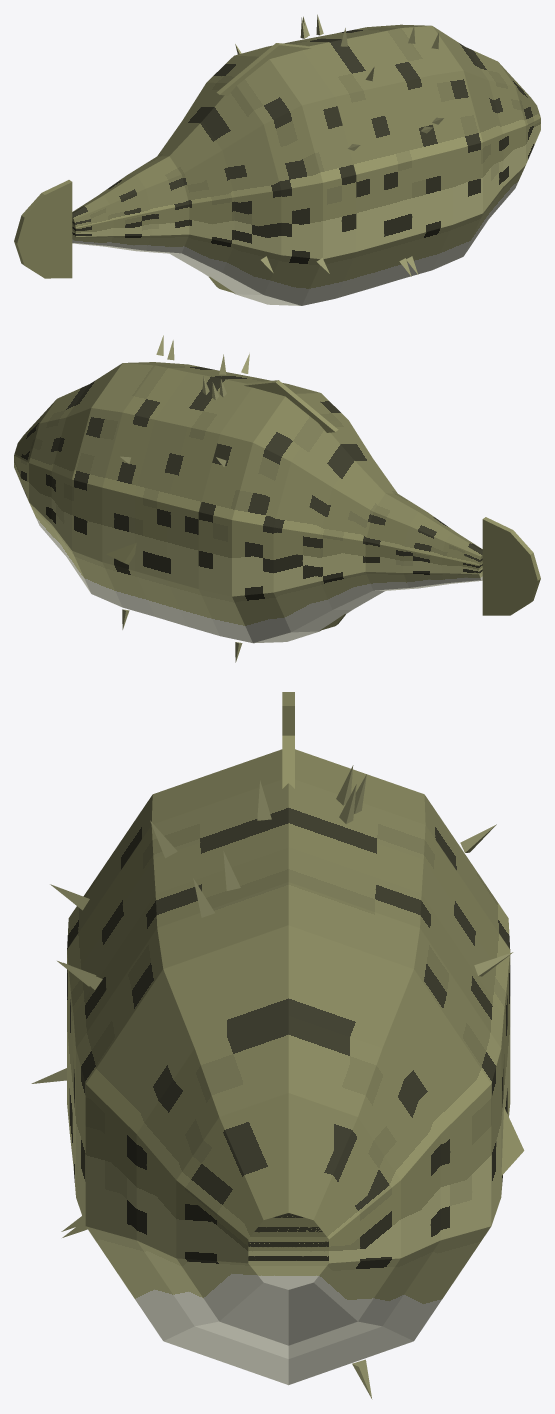
File: globefish.glb
3 renders of one model, top to bottom at view 1: azimuth 30°, elevation 25°; view 2: azimuth 150°, elevation 25°; view 3: azimuth 270°, elevation 25°, orthographic. The views are drawn at different scales.
Visible parts, largest first — view 1: fish_globefish; view 2: fish_globefish; view 3: fish_globefish.
Boxes of the visible parts, x1,y1,x2,y2 form: fish_globefish: [14, 14, 540, 305]; fish_globefish: [14, 335, 540, 662]; fish_globefish: [31, 692, 524, 1399].
Size of the model in its own units: 1.12 by 0.5785 by 0.4648.
5 materials, 1 textured.
